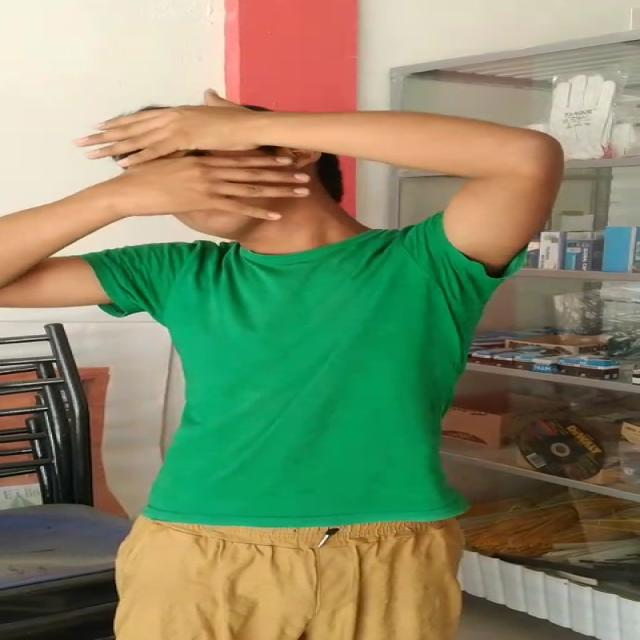7_mano_rostro: (71, 86, 312, 221)
